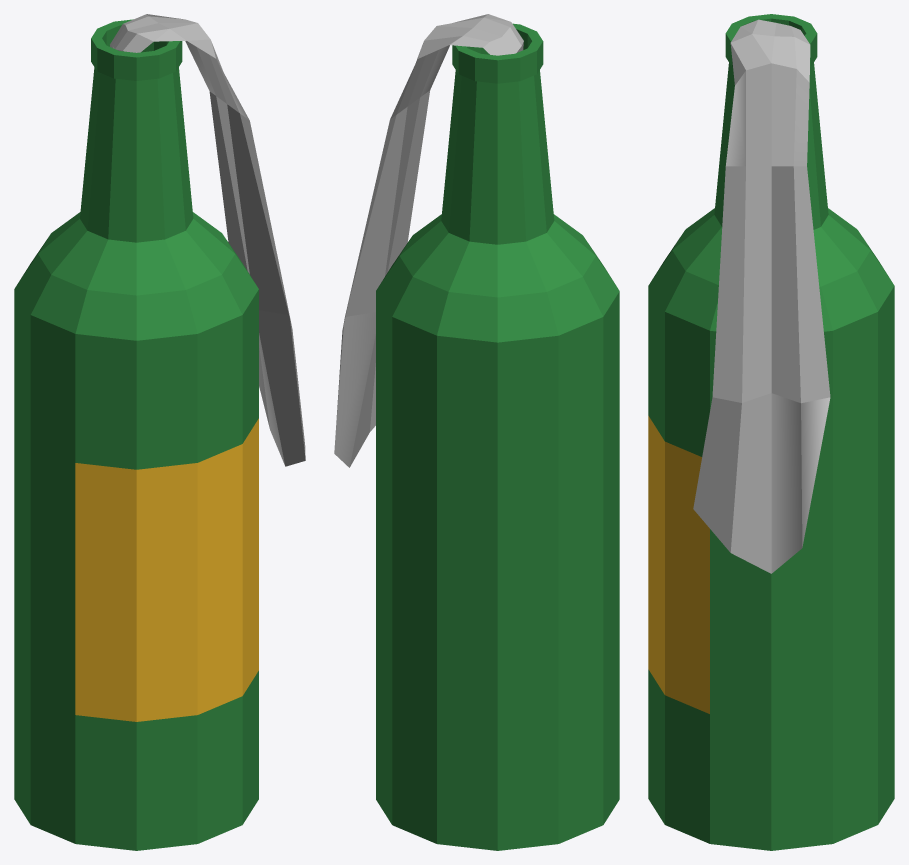
File: bomb lua.fbx
3 views of the same model, side by side, from view 1: azimuth 30°, elevation 25°; view 2: azimuth 150°, elevation 25°; view 3: azimuth 270°, elevation 25° (orthographic).
Parts seen in each view (by area): view 1: Molotov; view 2: Molotov; view 3: Molotov.
Part boxes in pixels (x1,y1,x2,y2): Molotov: [14, 14, 305, 850]; Molotov: [334, 14, 619, 850]; Molotov: [648, 14, 894, 850].
Bounding box in the file's own units: 1.8 × 5.22 × 1.5.
1 material, 1 textured.
